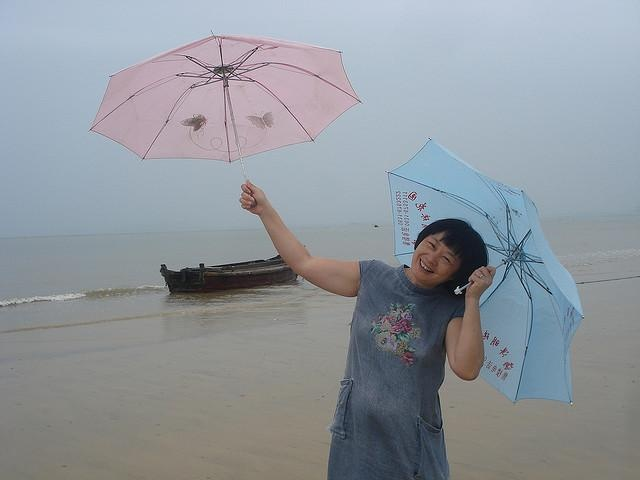otherboat: (156, 234, 309, 292)
person: (239, 178, 498, 480)
